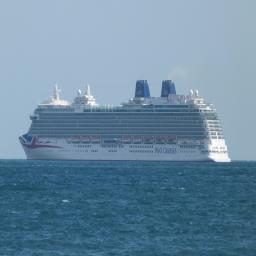cruises: (19, 79, 233, 167)
